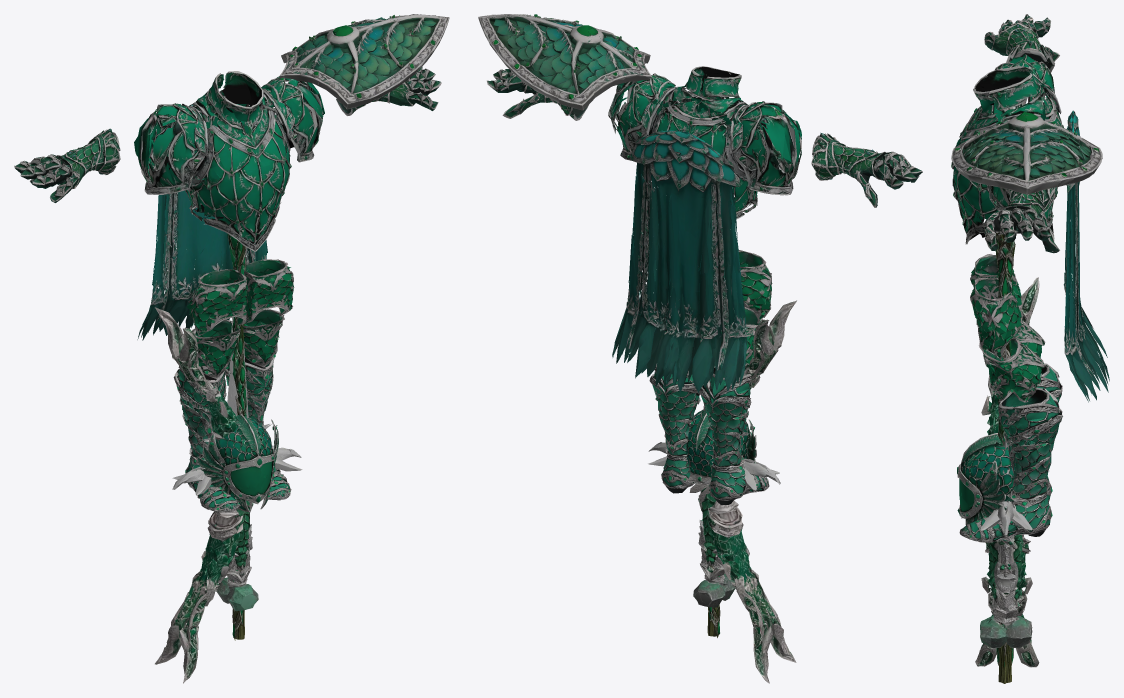
The model's file is ai_emerald.glb.
3 renders of one model, left to right at view 1: azimuth 30°, elevation 25°; view 2: azimuth 150°, elevation 25°; view 3: azimuth 270°, elevation 25°, orthographic. The views are drawn at different scales.
Parts seen in each view (by area): view 1: chest, shield, legs, bow, cape, feet, gloves, helm, blade, staff; view 2: cape, chest, shield, feet, bow, gloves, blade, legs, helm; view 3: shield, feet, chest, legs, gloves, cape, helm, blade, bow, staff, spellblade.
Boxes of the visible parts, box(x1,y1,x2,y2) form: chest: box(134, 71, 324, 251); shield: box(279, 14, 449, 109); legs: box(186, 259, 294, 378); bow: box(155, 307, 252, 683); cape: box(137, 104, 267, 340); feet: box(173, 357, 291, 512); gloves: box(14, 66, 441, 202); helm: box(196, 414, 278, 512); blade: box(172, 317, 301, 611); staff: box(216, 136, 264, 640); cape: box(612, 130, 748, 393); chest: box(608, 66, 801, 223); shield: box(478, 14, 652, 110); feet: box(649, 364, 769, 504); bow: box(689, 300, 796, 683); gloves: box(487, 69, 922, 207); blade: box(648, 405, 780, 607); legs: box(665, 250, 772, 372); helm: box(683, 409, 756, 484); shield: box(951, 112, 1102, 194); feet: box(959, 363, 1062, 542); chest: box(951, 54, 1063, 244); legs: box(970, 254, 1045, 402); gloves: box(984, 14, 1059, 253); cape: box(1063, 110, 1109, 402); helm: box(957, 433, 1036, 530); blade: box(980, 347, 1032, 648); bow: box(975, 277, 1039, 667); staff: box(995, 232, 1016, 683); spellblade: box(980, 350, 1032, 593).
Size of the model in its own units: 1.86 by 2.47 by 0.5461.
Materials: 12 (12 with a texture image).
